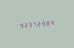eight: (47, 19, 51, 26)
four: (52, 18, 56, 26)
nine: (17, 21, 21, 29), (42, 19, 46, 27)
seven: (32, 20, 36, 28)
three: (27, 20, 31, 28)
two: (37, 19, 41, 27), (22, 21, 26, 28)
